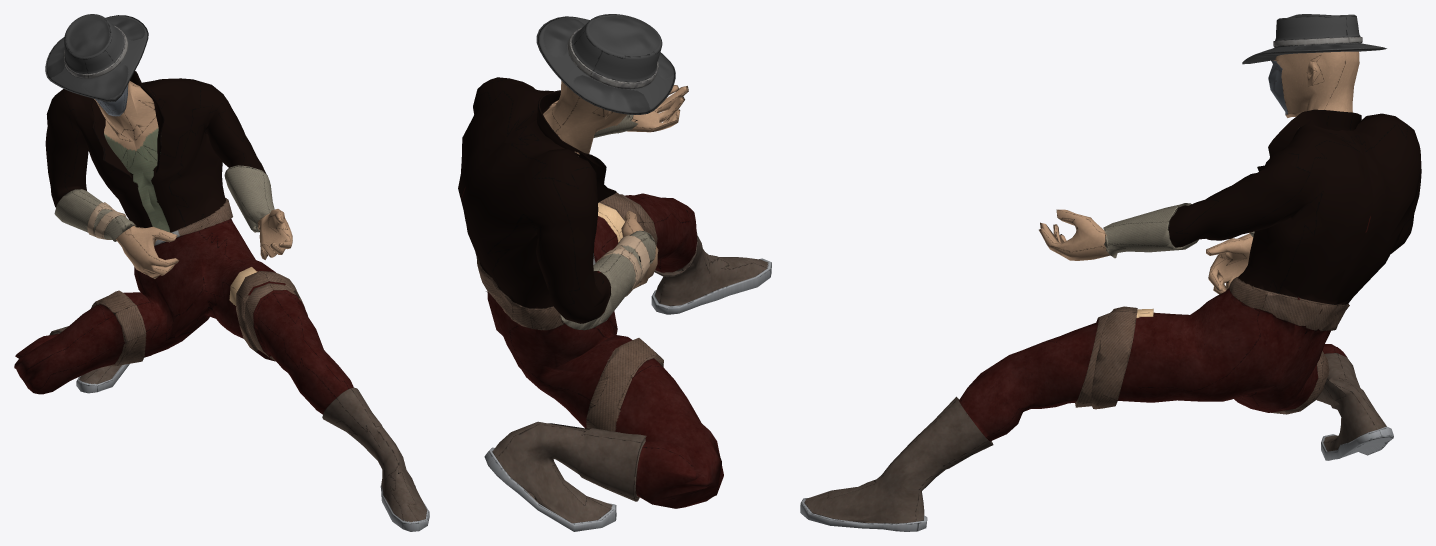
The model's file is dash-effect-pose.fbx.
3 views of the same model, side by side, from view 1: azimuth 30°, elevation 25°; view 2: azimuth 150°, elevation 25°; view 3: azimuth 270°, elevation 25° (orthographic). The views are drawn at different scales.
Parts seen in each view (by area): view 1: dash_anim_dash_pose2_polySurface11; view 2: dash_anim_dash_pose2_polySurface11; view 3: dash_anim_dash_pose2_polySurface11.
Boxes of the visible parts, <box> form: dash_anim_dash_pose2_polySurface11: <box>14,14,429,531</box>; dash_anim_dash_pose2_polySurface11: <box>458,14,771,531</box>; dash_anim_dash_pose2_polySurface11: <box>800,14,1421,531</box>.
Size of the model in its own units: 71.44 by 116 by 148.
